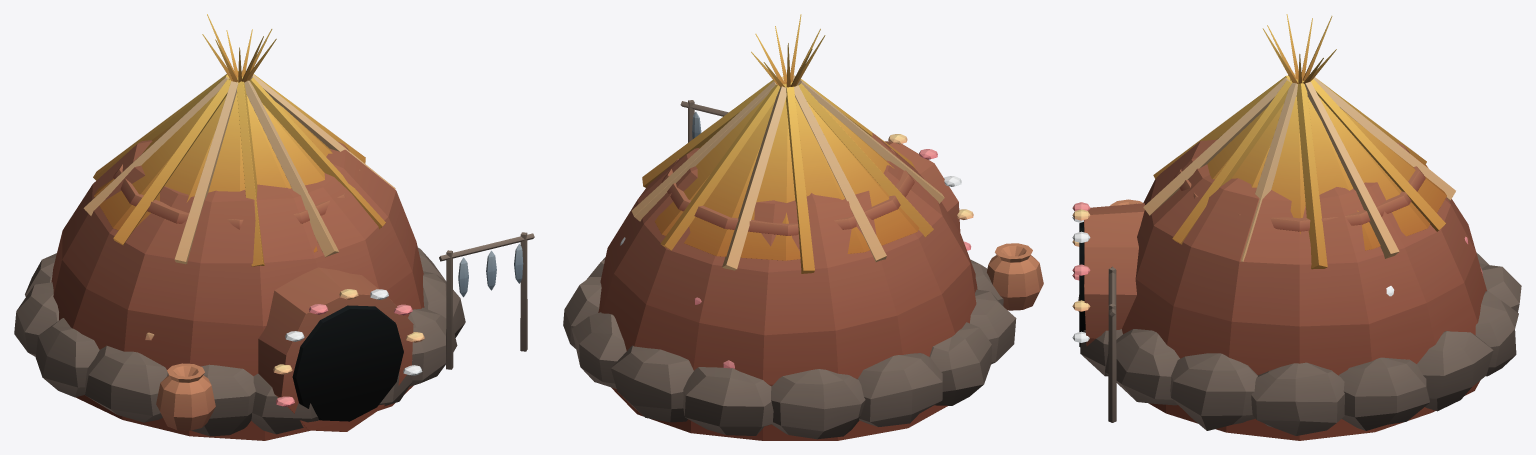
The model's file is pondkin_hut.glb.
3 views of the same model, side by side, from view 1: azimuth 30°, elevation 25°; view 2: azimuth 150°, elevation 25°; view 3: azimuth 270°, elevation 25° (orthographic).
Parts seen in each view (by area): view 1: pondkin_hut; view 2: pondkin_hut; view 3: pondkin_hut.
Boxes of the visible parts, bbox=[...] form: pondkin_hut: bbox=[14, 14, 534, 440]; pondkin_hut: bbox=[563, 14, 1043, 440]; pondkin_hut: bbox=[1072, 14, 1521, 440].
Size of the model in its own units: 4.26 by 3.5 by 4.2.
Materials: 1 (1 with a texture image).
